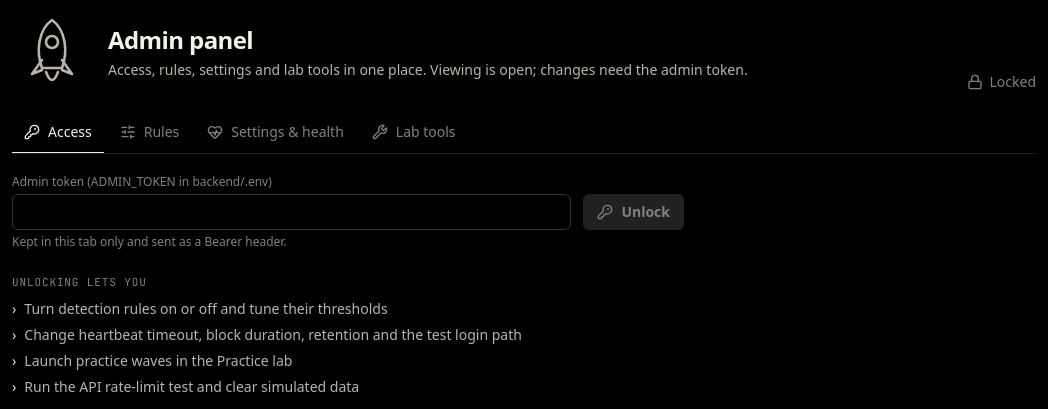
Test: AdminPage › shows a clear error for a wrong token
Type "wrong-token-wrong-token" into the password field labelled "Admin token (ADMIN_TOKEN in backend/.env)" at (292, 212), box [12, 194, 571, 230]
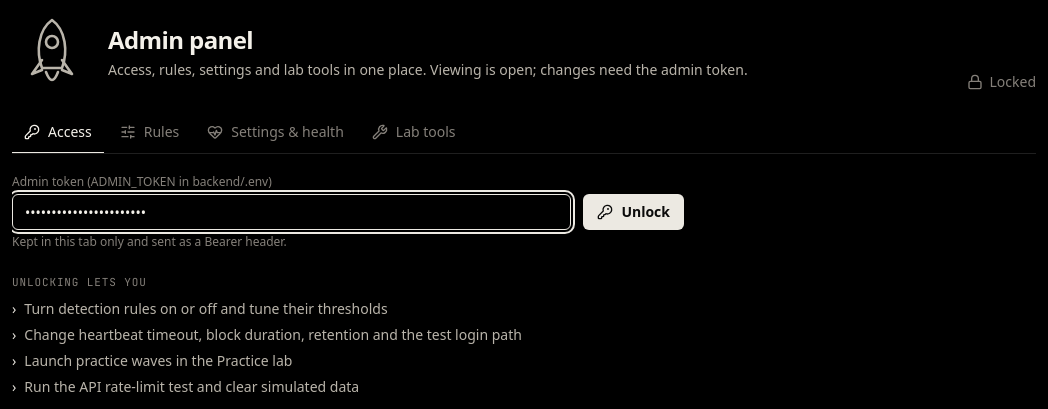
Click the button "Unlock" at (634, 212), box [583, 194, 684, 230]
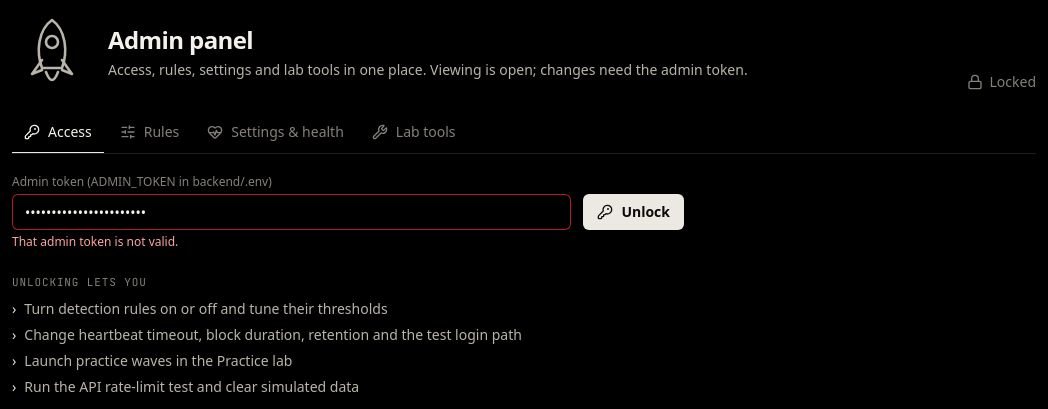
Now the text "That admin token is not valid." is shown, box [12, 233, 178, 250]
